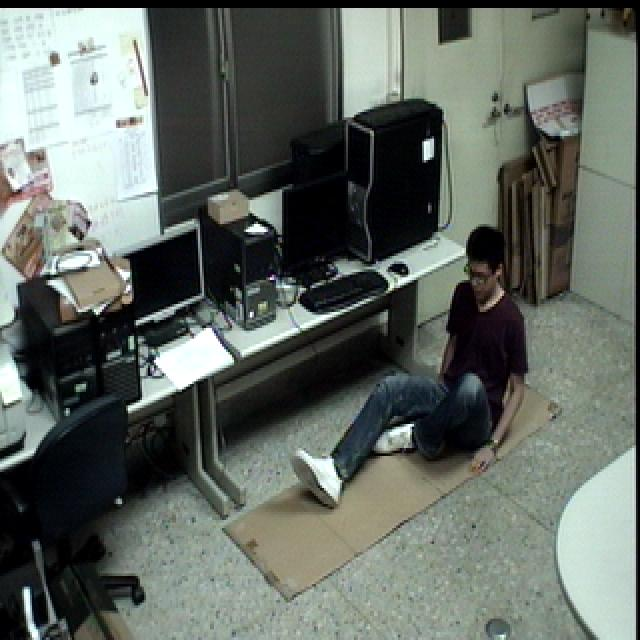sit: (284, 220, 531, 514)
